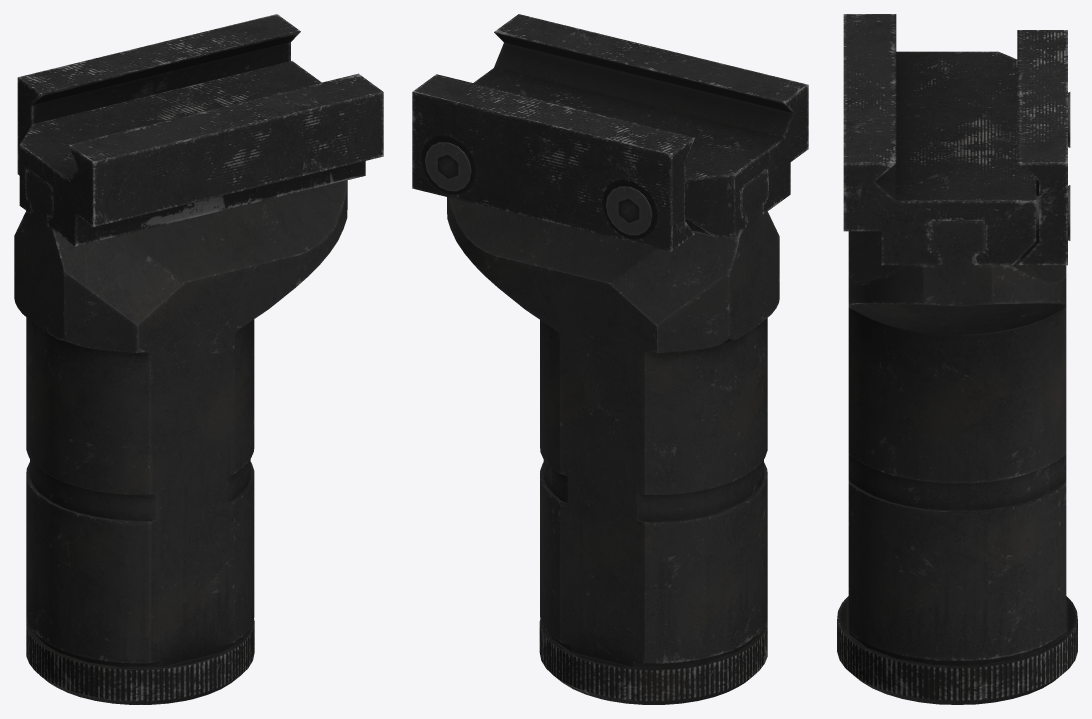
The model's file is tactical_foregrips_1.glb.
The picture shows the model from 3 angles, left to right: view 1: azimuth 30°, elevation 25°; view 2: azimuth 150°, elevation 25°; view 3: azimuth 270°, elevation 25°; orthographic projection. The views are drawn at different scales.
Parts seen in each view (by area): view 1: rk0_lp, zen_mount_lp; view 2: rk0_lp, zen_mount_lp, bolt_lp; view 3: rk0_lp, zen_mount_lp, bolt_lp.
Boxes of the visible parts, left/top/right/bottom form: rk0_lp: left=14, top=168, right=347, bottom=704; zen_mount_lp: left=17, top=14, right=383, bottom=246; rk0_lp: left=447, top=169, right=779, bottom=704; zen_mount_lp: left=412, top=14, right=808, bottom=251; bolt_lp: left=425, top=142, right=652, bottom=235; rk0_lp: left=837, top=221, right=1077, bottom=704; zen_mount_lp: left=843, top=14, right=1067, bottom=265; bolt_lp: left=1036, top=92, right=1070, bottom=240.
Bounding box in the file's own units: 0.0473 × 0.0874 × 0.0322.
1 material, 1 textured.
